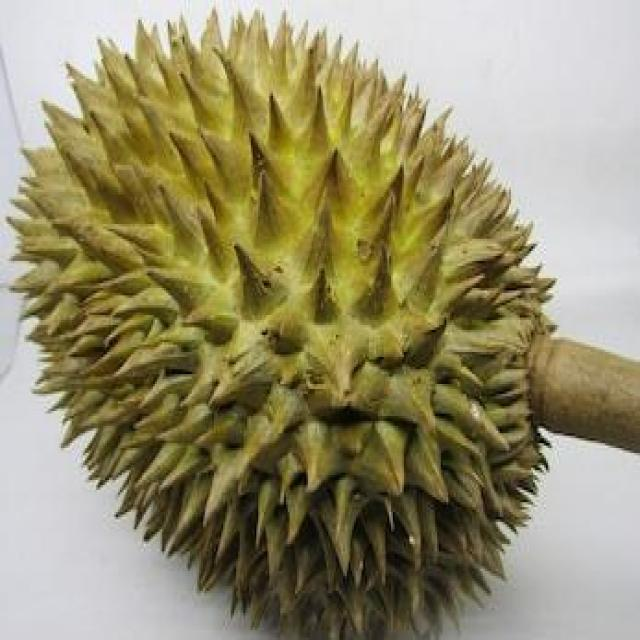immature: (13, 0, 559, 640)
